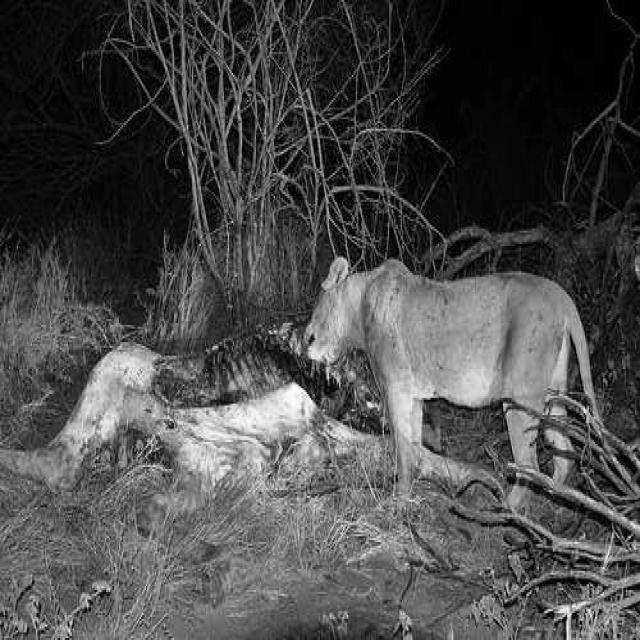Lion: (318, 241, 434, 390)
